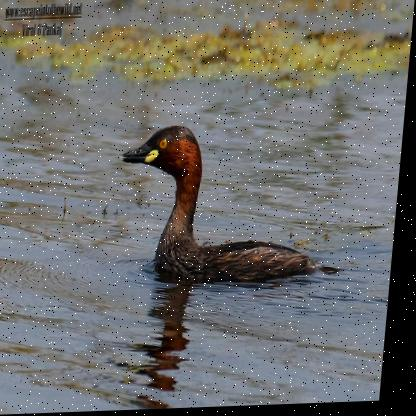Burung: (117, 123, 334, 282)
